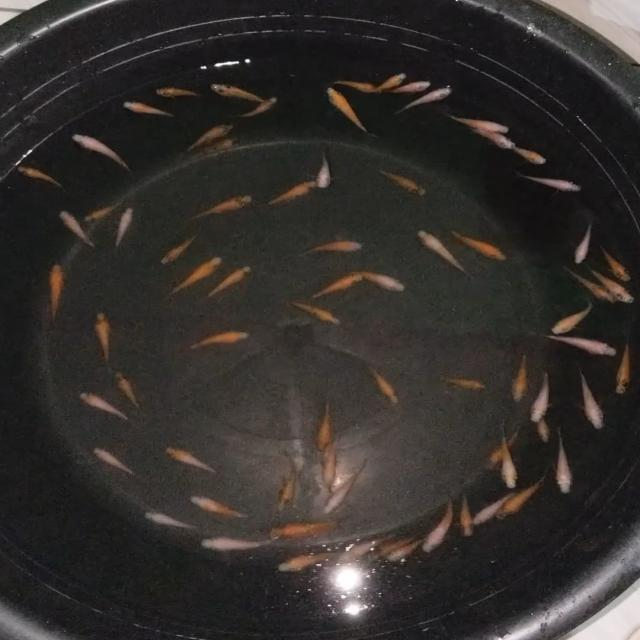nila: (416, 230, 474, 279), (68, 132, 134, 174), (314, 469, 369, 516), (444, 228, 511, 266), (419, 492, 457, 558), (324, 85, 374, 135), (166, 255, 222, 299), (496, 474, 547, 522), (542, 327, 618, 359), (186, 190, 255, 224), (176, 121, 236, 159), (578, 363, 608, 434), (204, 260, 253, 302), (276, 550, 352, 576), (180, 328, 253, 355), (165, 444, 226, 476), (75, 388, 132, 422), (56, 208, 101, 250), (187, 493, 252, 522), (338, 532, 396, 564), (588, 262, 632, 304), (568, 270, 618, 306), (268, 518, 340, 543), (286, 296, 346, 326), (396, 84, 454, 115), (474, 487, 520, 525), (366, 534, 422, 564), (296, 238, 366, 262), (274, 448, 299, 514), (188, 137, 241, 168), (380, 168, 430, 200), (91, 446, 141, 478), (156, 233, 199, 270), (498, 426, 522, 492), (262, 182, 316, 210), (352, 268, 410, 294), (527, 370, 553, 426), (314, 269, 364, 298), (386, 534, 428, 568), (453, 112, 512, 136), (554, 430, 576, 494), (199, 536, 277, 554), (547, 306, 597, 334), (489, 425, 524, 465), (144, 508, 202, 532), (45, 261, 66, 327), (523, 172, 583, 195), (18, 164, 67, 192), (209, 82, 268, 105), (119, 98, 178, 121), (570, 218, 597, 268), (314, 399, 338, 454), (368, 366, 400, 407), (93, 311, 115, 368), (602, 248, 634, 287), (320, 438, 343, 488), (115, 368, 141, 412), (109, 204, 135, 247), (614, 344, 635, 397), (238, 96, 278, 123), (467, 130, 519, 150), (511, 352, 531, 404), (82, 201, 128, 223), (372, 69, 412, 93), (386, 78, 434, 98), (442, 374, 490, 394), (507, 146, 549, 168), (457, 496, 477, 540), (316, 146, 335, 192), (330, 78, 384, 94), (153, 87, 209, 101), (532, 409, 554, 444), (317, 436, 335, 474)
